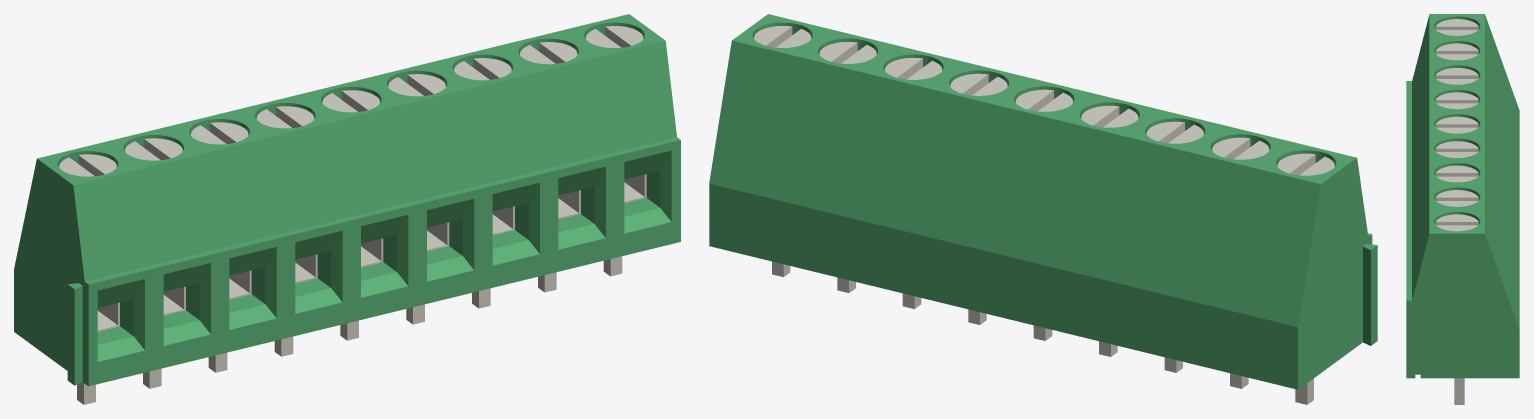
File: kc-terminalblock_phoenix_mkds-1_5-9_1x09_p5.00mm_horizontal.glb
3 views of the same model, side by side, from view 1: azimuth 30°, elevation 25°; view 2: azimuth 150°, elevation 25°; view 3: azimuth 270°, elevation 25° (orthographic). The views are drawn at different scales.
Visible parts, largest first — view 1: 0.08333333333333333_0.4166666666666667_0.16666666666666666_0, 0.6666666666666666_0.6666666666666666_0.5833333333333334_0.8; view 2: 0.08333333333333333_0.4166666666666667_0.16666666666666666_0, 0.6666666666666666_0.6666666666666666_0.5833333333333334_0.8; view 3: 0.08333333333333333_0.4166666666666667_0.16666666666666666_0, 0.6666666666666666_0.6666666666666666_0.5833333333333334_0.8.
Part boxes in pixels (x1=…): 0.08333333333333333_0.4166666666666667_0.16666666666666666_0: x1=14, y1=14, x2=680, y2=386; 0.6666666666666666_0.6666666666666666_0.5833333333333334_0.8: x1=59, y1=26, x2=646, y2=404; 0.08333333333333333_0.4166666666666667_0.16666666666666666_0: x1=709, y1=14, x2=1377, y2=389; 0.6666666666666666_0.6666666666666666_0.5833333333333334_0.8: x1=754, y1=26, x2=1334, y2=404; 0.08333333333333333_0.4166666666666667_0.16666666666666666_0: x1=1406, y1=14, x2=1519, y2=378; 0.6666666666666666_0.6666666666666666_0.5833333333333334_0.8: x1=1435, y1=19, x2=1478, y2=404.
Bounding box in the file's own units: 4.57 × 1.73 × 0.9799.
